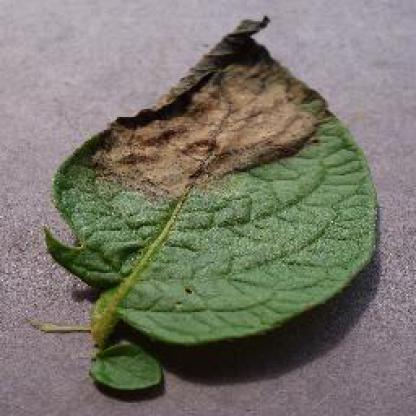bad leaf: (108, 16, 338, 166)
